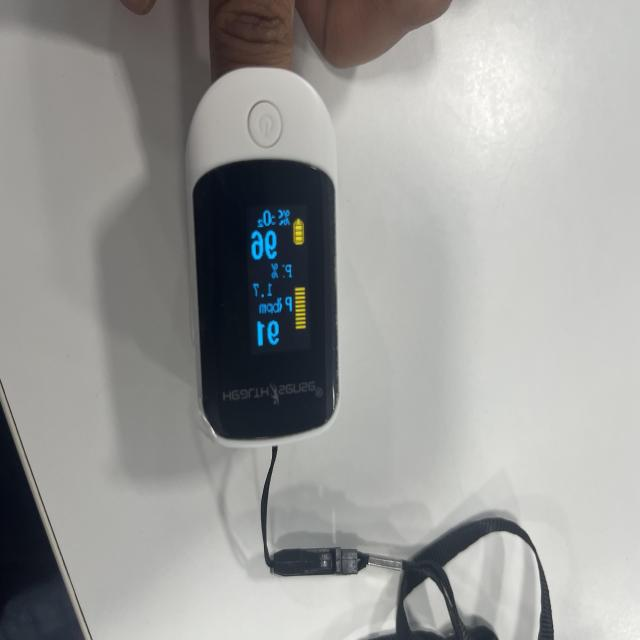spo2: (183, 67, 341, 449)
